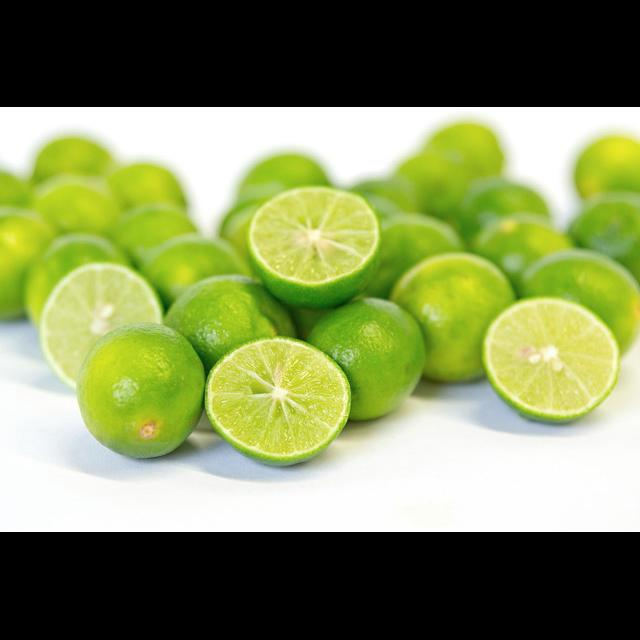lime: (200, 338, 357, 473), (71, 321, 207, 466), (480, 295, 626, 425), (241, 183, 387, 312), (299, 296, 434, 433), (38, 260, 170, 395), (390, 252, 520, 388), (169, 271, 307, 373)
